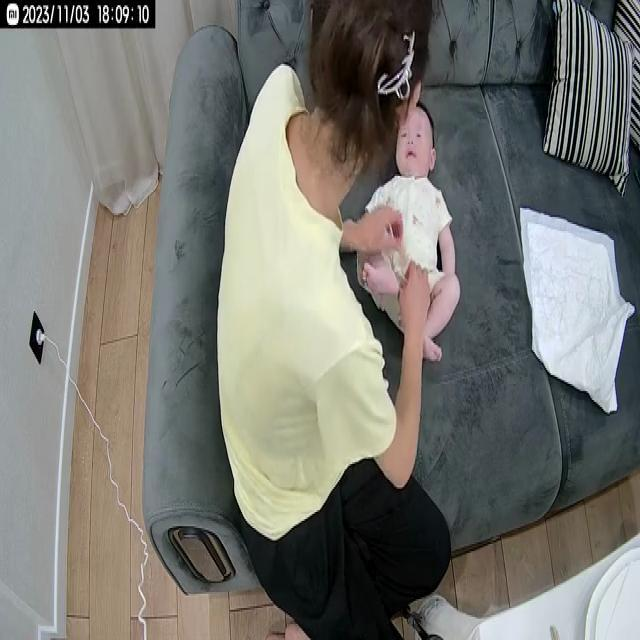baby: (356, 102, 460, 368)
